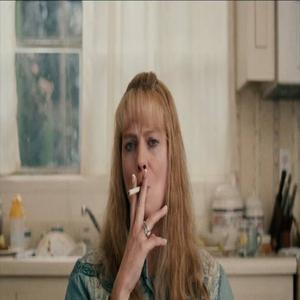cigarette: (126, 186, 142, 196)
